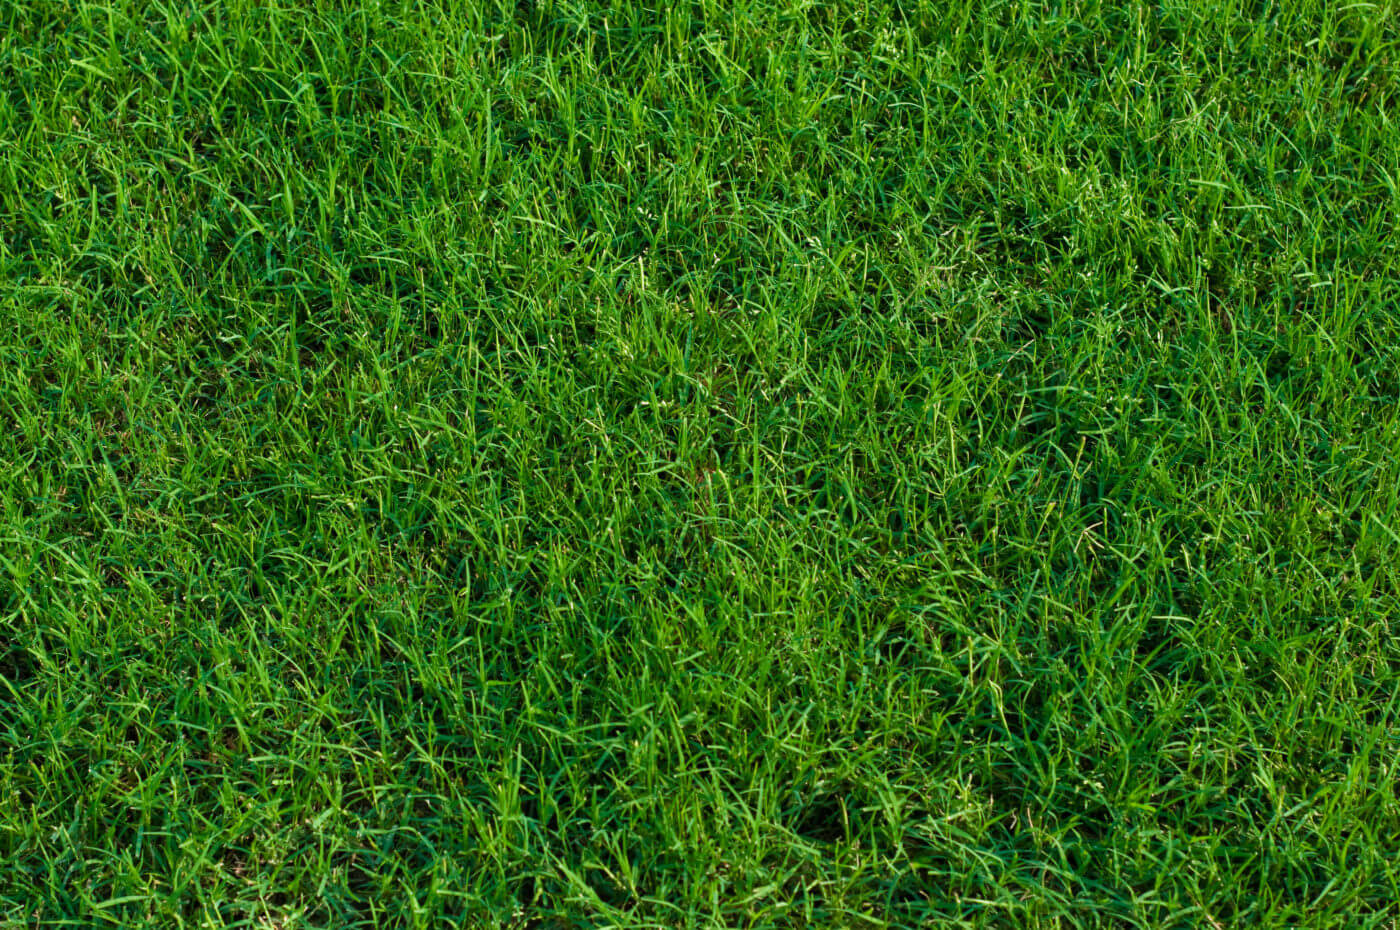grass: (7, 4, 1400, 929)
